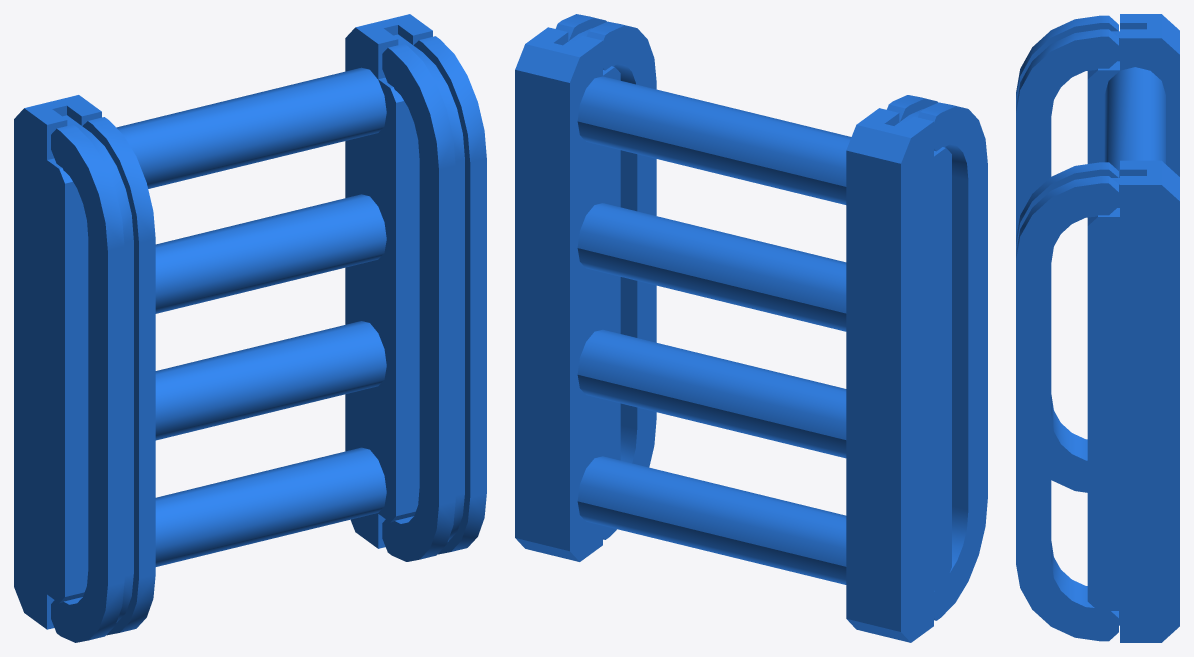
The model's file is obj_interactive_ladder.fbx.
3 views of the same model, side by side, from view 1: azimuth 30°, elevation 25°; view 2: azimuth 150°, elevation 25°; view 3: azimuth 270°, elevation 25° (orthographic). The views are drawn at different scales.
Visible parts, largest first — view 1: part2_lp, part1_lp, part3_lp; view 2: part3_lp, part1_lp, part2_lp; view 3: part3_lp, part2_lp, part1_lp.
Part boxes in pixels (x1,y1,x2,y2): part2_lp: (51, 34, 486, 642); part1_lp: (116, 67, 386, 566); part3_lp: (14, 14, 432, 629); part3_lp: (515, 27, 951, 642); part1_lp: (577, 76, 851, 584); part2_lp: (555, 14, 987, 620); part3_lp: (1087, 14, 1179, 642); part2_lp: (1016, 15, 1119, 641); part1_lp: (1104, 67, 1165, 177).
Bounding box in the file's own units: 4 × 5 × 1.62.
